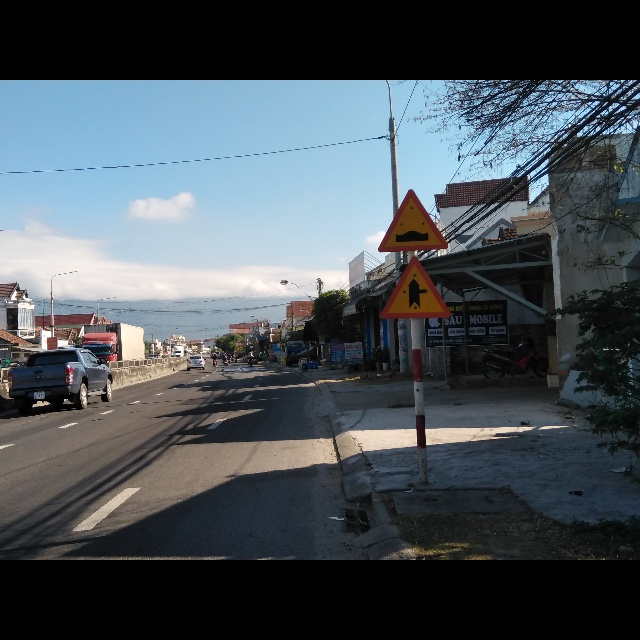Giao nhau với đường không ưu tiên: (376, 256, 452, 319)
Đường không bằng phẳng: (379, 189, 449, 254)
